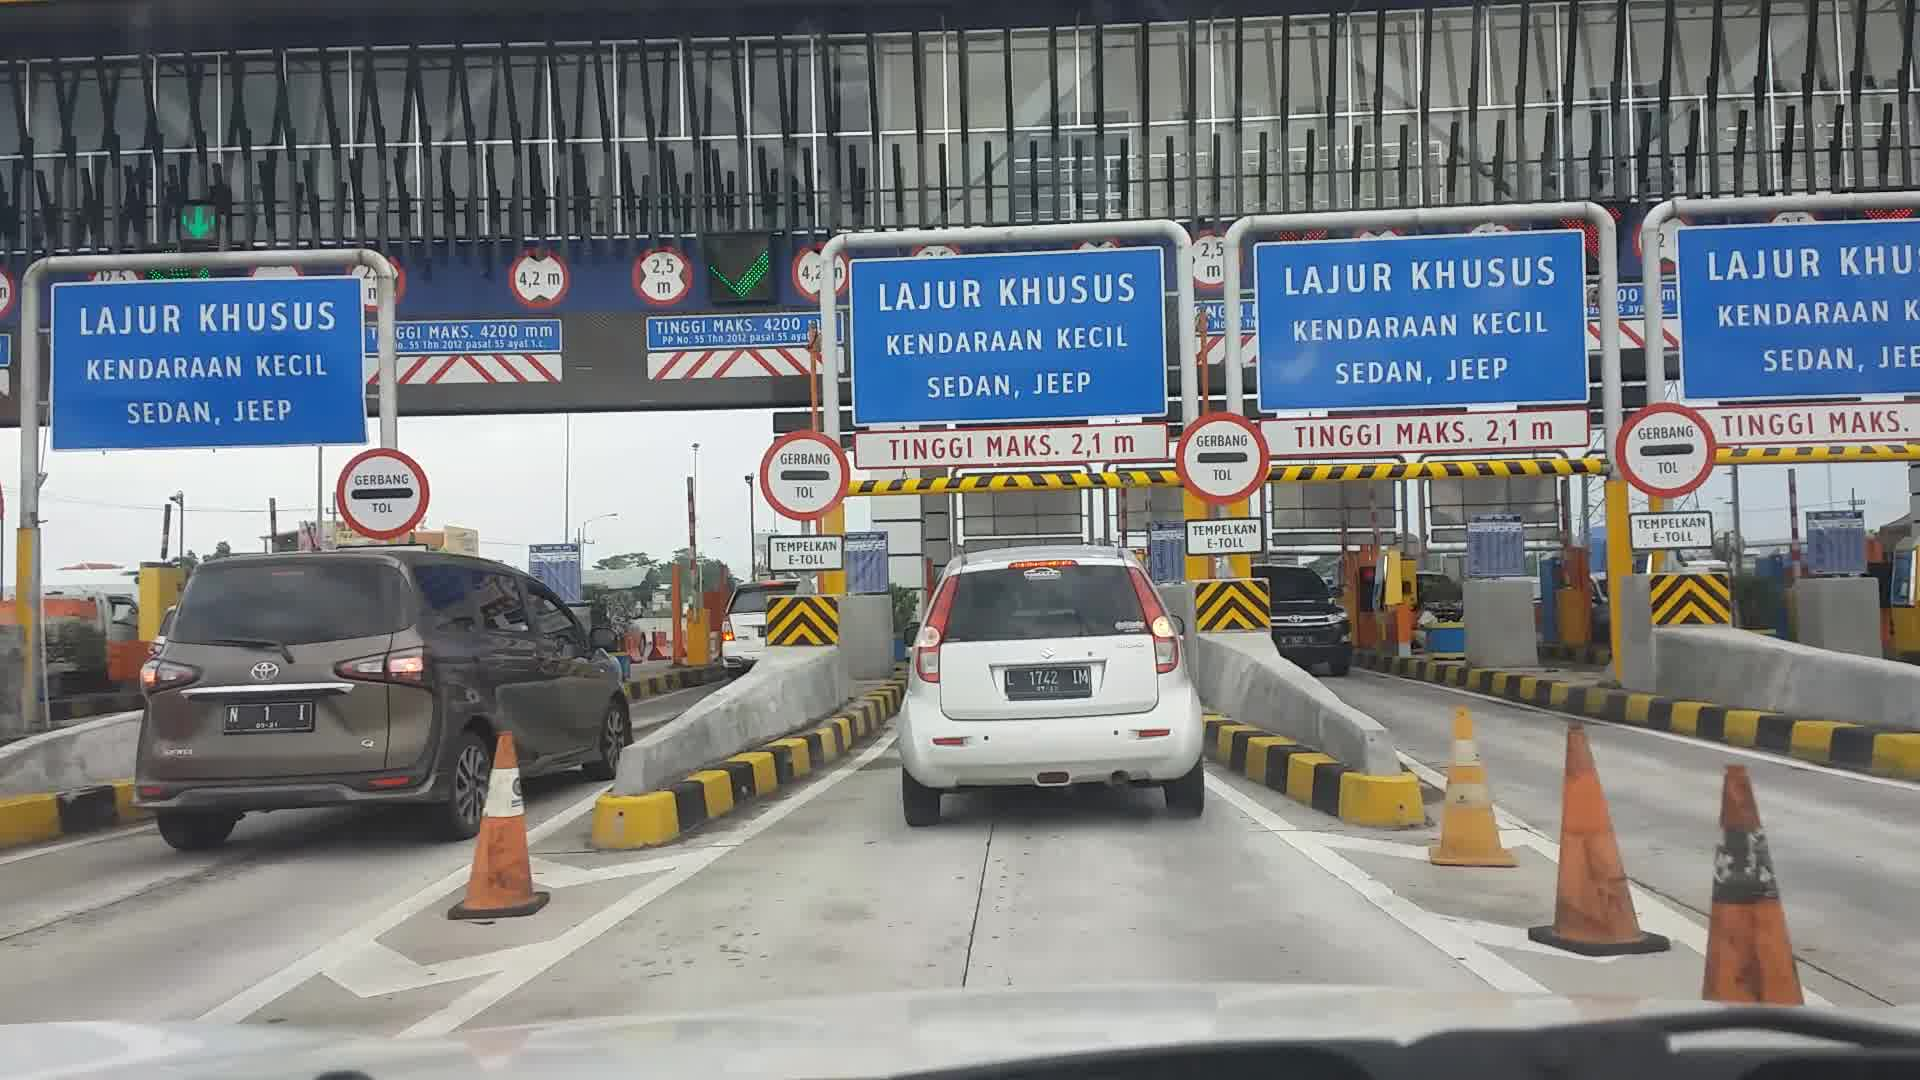plate_positive: (225, 702, 315, 735), (1005, 666, 1092, 699)
